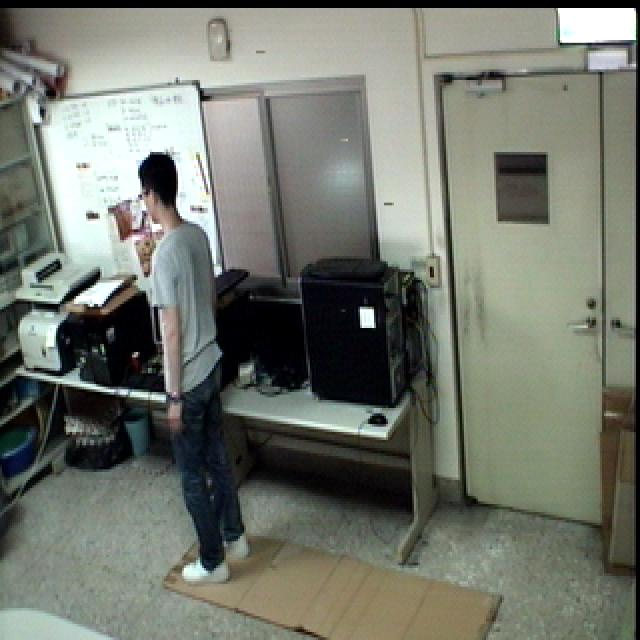stand: (134, 146, 260, 590)
